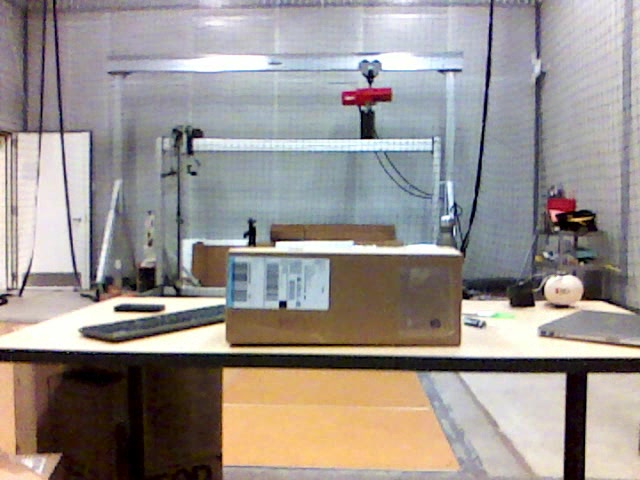box: (227, 249, 462, 348)
